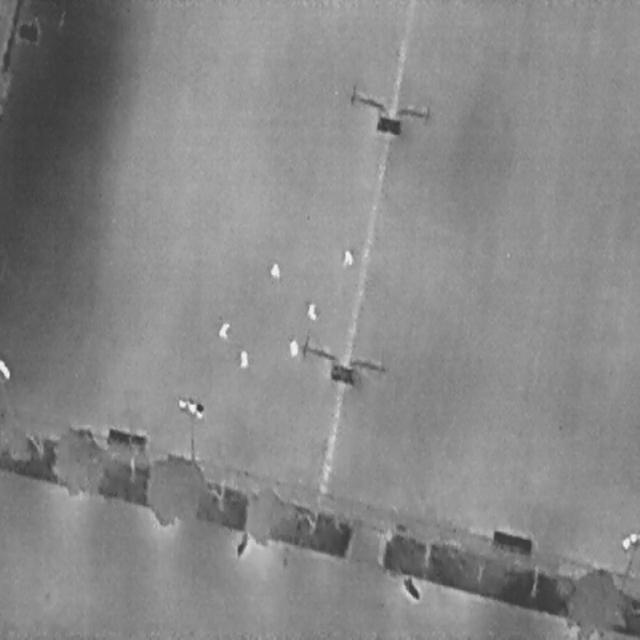Person: (217, 320, 229, 338), (288, 336, 298, 356), (239, 348, 248, 368), (269, 260, 279, 278), (342, 248, 353, 264), (307, 300, 316, 319)
